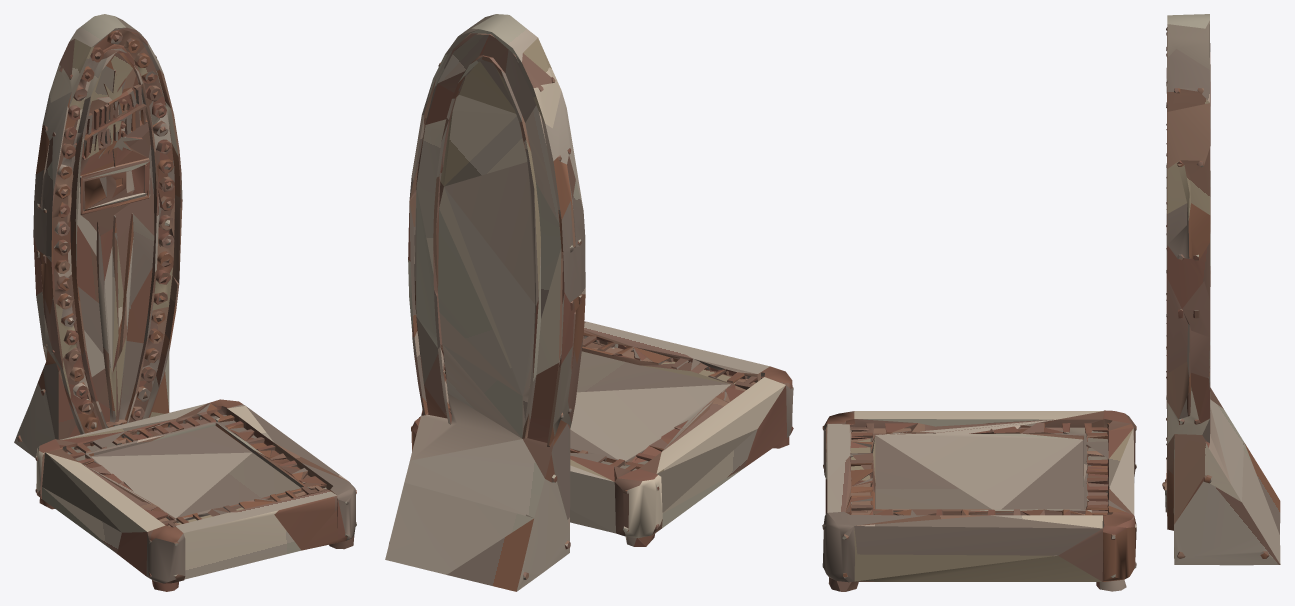
Rendered from jackpot.glb.
The picture shows the model from 3 angles, left to right: view 1: azimuth 30°, elevation 25°; view 2: azimuth 150°, elevation 25°; view 3: azimuth 270°, elevation 25°; orthographic projection. The views are drawn at different scales.
Visible parts, largest first — view 1: Mesh_0; view 2: Mesh_0; view 3: Mesh_0.
Part boxes in pixels (left/top/right/bottom): Mesh_0: left=14, top=14, right=356, bottom=591; Mesh_0: left=385, top=14, right=793, bottom=591; Mesh_0: left=822, top=14, right=1280, bottom=591.
Bounding box in the file's own units: 0.9414 × 1.9 × 1.52.
1 material, 1 textured.
